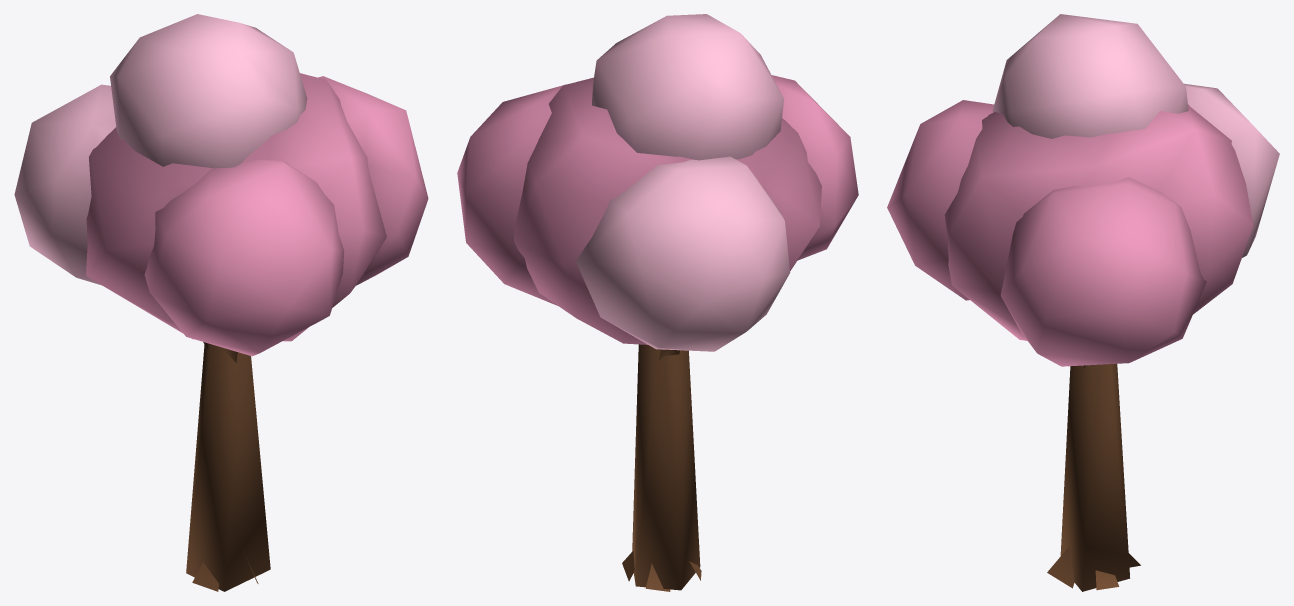
Rendered from md_blossom_lod.glb.
3 renders of one model, left to right at view 1: azimuth 30°, elevation 25°; view 2: azimuth 150°, elevation 25°; view 3: azimuth 270°, elevation 25°, orthographic. The views are drawn at different scales.
Parts seen in each view (by area): view 1: blossom_lod; view 2: blossom_lod; view 3: blossom_lod.
Part boxes in pixels (x1,y1,x2,y2): blossom_lod: (14, 14, 428, 591); blossom_lod: (457, 14, 858, 591); blossom_lod: (887, 14, 1279, 591).
Size of the model in its own units: 4.43 by 6.74 by 4.41.
